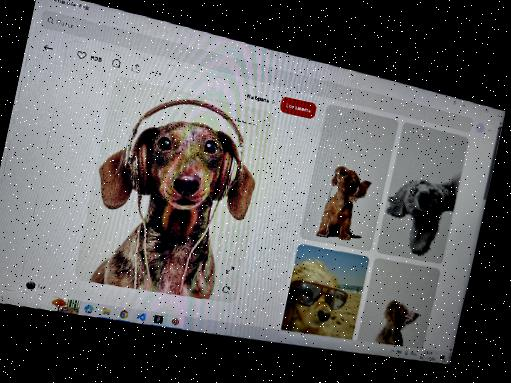pinterest: (0, 10, 503, 356)
